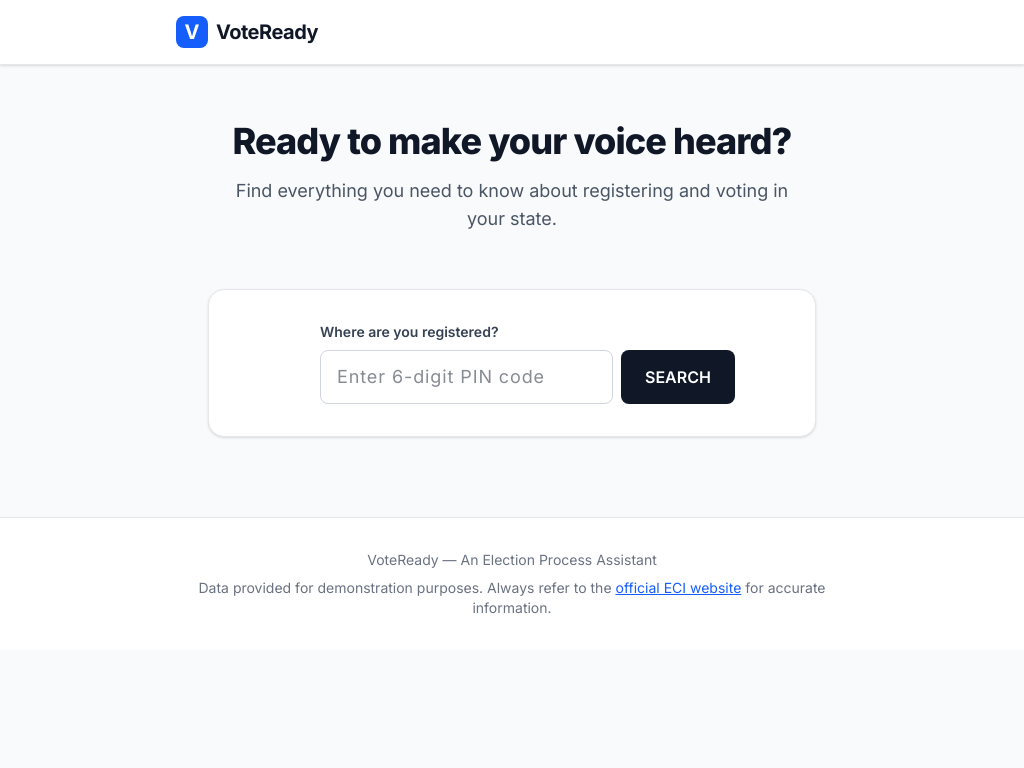
Scenario: Home page flow › opens the state picker for an unmapped PIN and selects a state
The width and height of the screenshot is (1024, 768).
Type "999999" into the field labelled "Where are you registered?" at (466, 377), box [320, 350, 613, 404]
Wait 300 ms
(page scrolled)
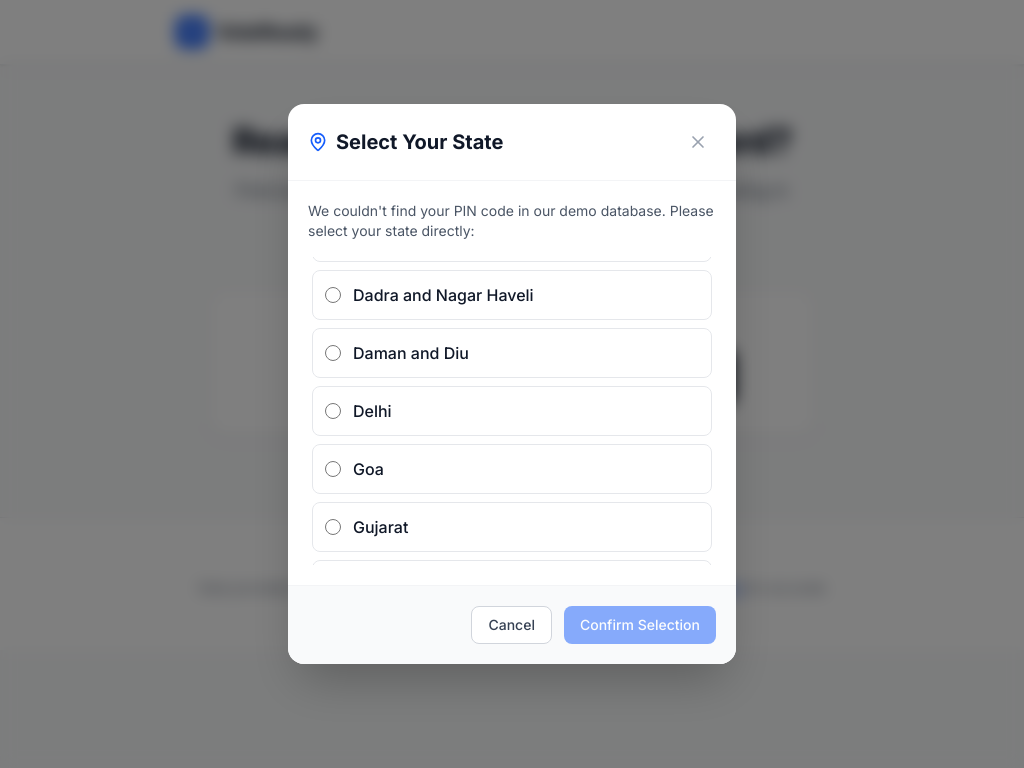
expect the dialog "Select Your State" is shown: met, box [288, 104, 736, 664]
Click the radio button labelled "Delhi" at (333, 411), box [325, 403, 341, 419]
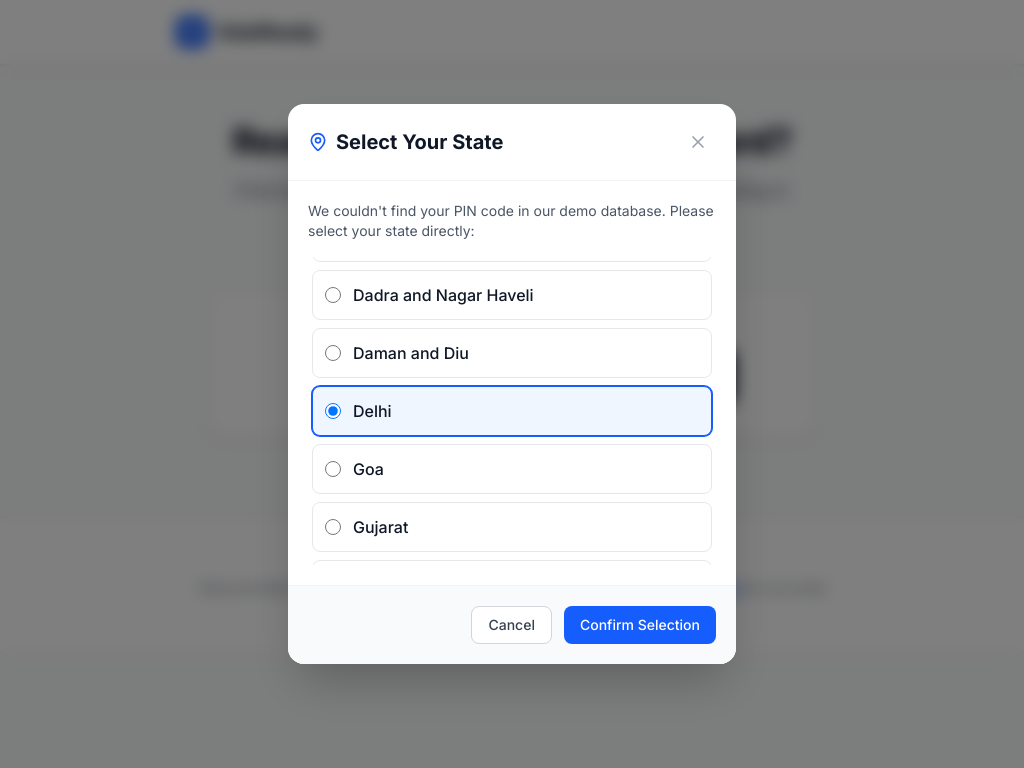
Click the button "Confirm Selection" at (640, 625), box [564, 606, 716, 644]
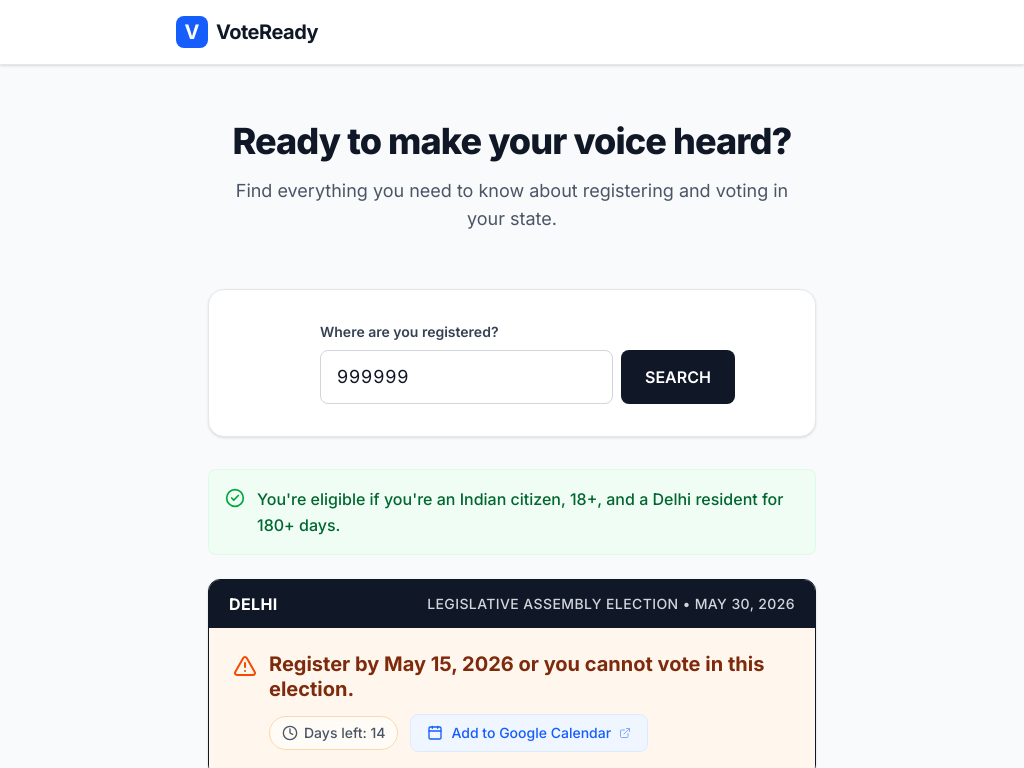
expect the dialog is gone: met
expect the text "Delhi resident" is shown: met, box [257, 486, 799, 538]
